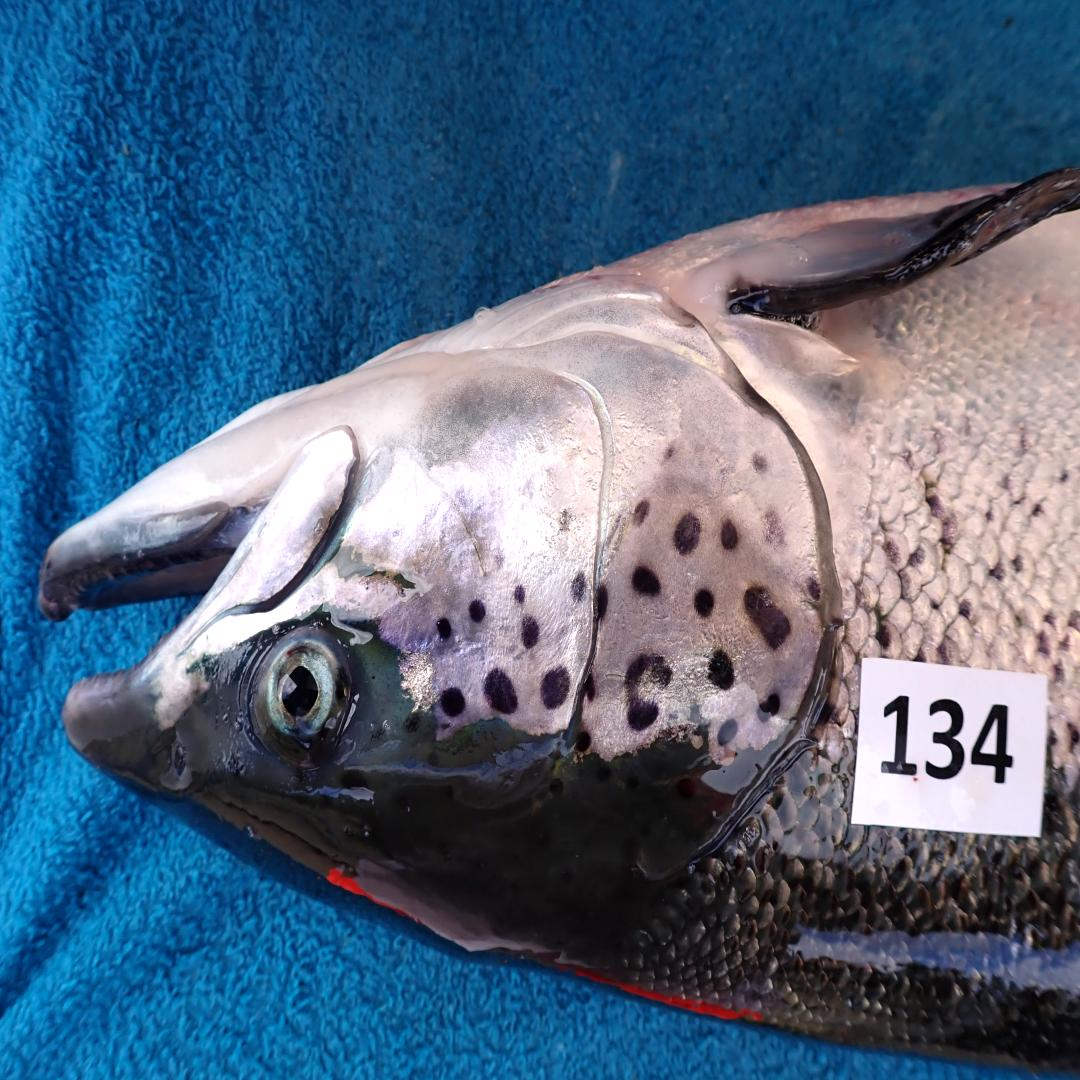roi: (355, 262, 831, 764)
